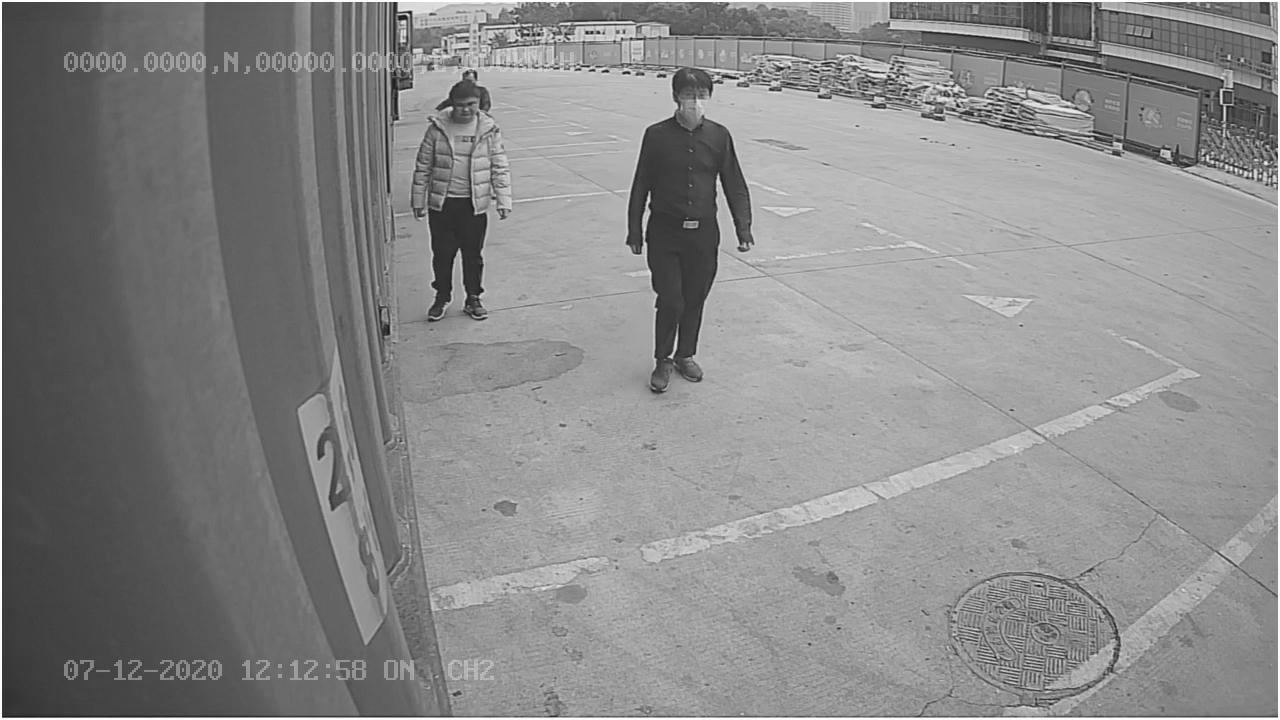person: (625, 68, 756, 394)
